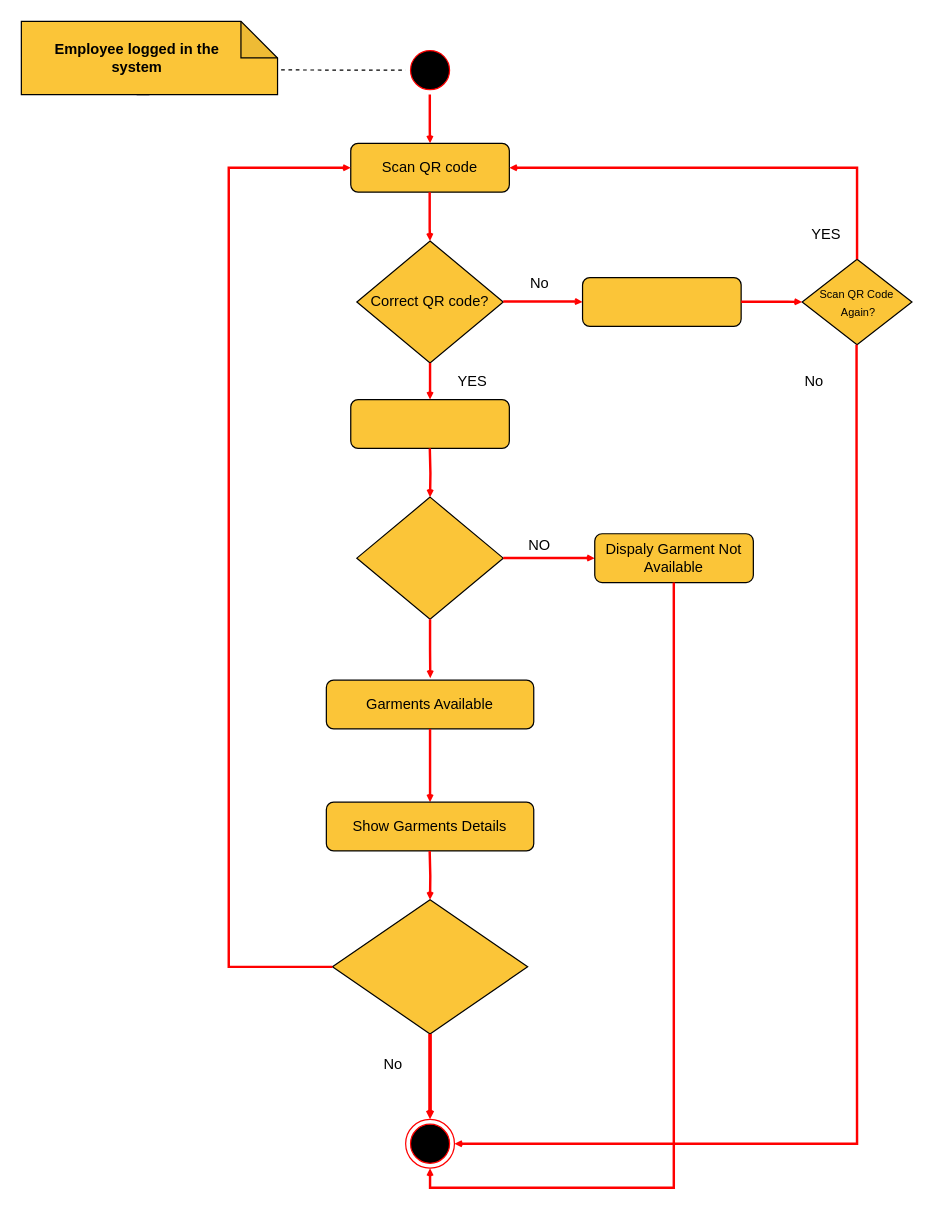
Some shapes in this 933 by 1215 pixel diagram are drawn without their labels. Here are the shapes that lost their labels. From the top down, the centre of each, then its label:
(661,301): display Card not readable scan again
(429,423): Display QR Code Recognized Suessfuly
(429,557): Check Availability
(429,966): Scan another QR code?
